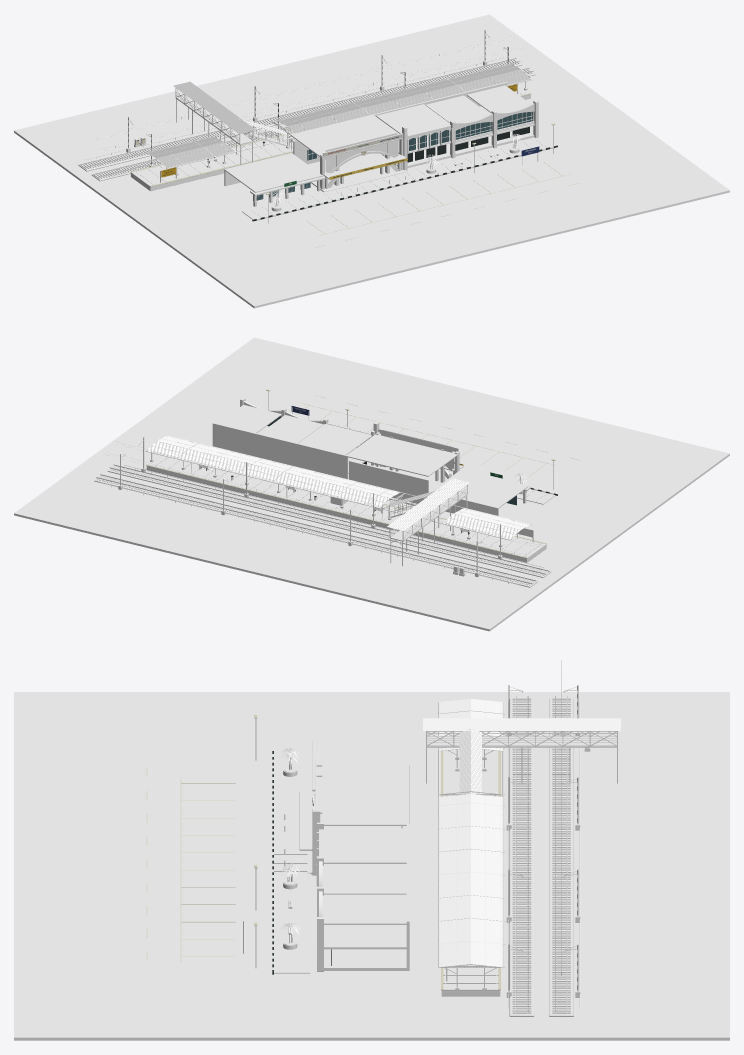
File: ERS_2017_station.glb
The picture shows the model from 3 angles, top to bottom: view 1: azimuth 30°, elevation 25°; view 2: azimuth 150°, elevation 25°; view 3: azimuth 270°, elevation 25°; orthographic projection. The views are drawn at different scales.
Parts seen in each view (by area): view 1: Presentation ground, Paved footway, Platform coping, Entry roof slab, Platform corrugated roof -1.001, Left wing roof, Platform corrugated roof 1.001, Ballast bed.001, Small gallery flat roof, Footbridge corrugated roof, Entry foundation, Broad wing roof slab.001 (+9 smaller); view 2: Presentation ground, Platform coping, Right wing rear wall, Platform corrugated roof 1.001, Ballast bed, Ballast bed.001, Entry roof slab, Platform corrugated roof -1.001, Left wing roof, Platform retaining wall, Entry rear wall, Small gallery flat roof (+10 smaller); view 3: Presentation ground, Paved footway, Entry roof slab, Platform corrugated roof 1.001, Platform corrugated roof -1.001, Ballast bed, Ballast bed.001, Small gallery flat roof, Platform coping, Footbridge corrugated roof, Broad wing roof slab, Broad wing roof slab.001 (+9 smaller).
Part boxes in pixels (left/top/right/bottom): Presentation ground: left=14, top=14, right=729, bottom=308; Paved footway: left=242, top=138, right=555, bottom=219; Platform coping: left=131, top=84, right=530, bottom=187; Entry roof slab: left=290, top=114, right=403, bottom=158; Platform corrugated roof -1.001: left=288, top=70, right=531, bottom=133; Left wing roof: left=224, top=153, right=322, bottom=192; Platform corrugated roof 1.001: left=277, top=64, right=520, bottom=126; Ballast bed.001: left=78, top=58, right=522, bottom=171; Small gallery flat roof: left=376, top=104, right=450, bottom=134; Footbridge corrugated roof: left=173, top=81, right=255, bottom=134; Entry foundation: left=308, top=153, right=407, bottom=191; Broad wing roof slab.001: left=467, top=85, right=530, bottom=113; Presentation ground: left=14, top=337, right=729, bottom=631; Platform coping: left=146, top=455, right=546, bottom=558; Right wing rear wall: left=212, top=423, right=348, bottom=479; Platform corrugated roof 1.001: left=146, top=441, right=389, bottom=507; Ballast bed: left=107, top=465, right=551, bottom=577; Ballast bed.001: left=94, top=474, right=538, bottom=587; Entry roof slab: left=346, top=433, right=459, bottom=476; Platform corrugated roof -1.001: left=157, top=435, right=400, bottom=497; Left wing roof: left=431, top=469, right=528, bottom=508; Platform retaining wall: left=146, top=466, right=546, bottom=562; Entry rear wall: left=349, top=460, right=428, bottom=503; Small gallery flat roof: left=298, top=423, right=371, bottom=454; Presentation ground: left=14, top=692, right=729, bottom=1040; Paved footway: left=274, top=753, right=310, bottom=973; Entry roof slab: left=316, top=764, right=409, bottom=825; Platform corrugated roof 1.001: left=470, top=794, right=502, bottom=966; Platform corrugated roof -1.001: left=438, top=794, right=470, bottom=967; Ballast bed: left=509, top=698, right=534, bottom=1016; Ballast bed.001: left=549, top=698, right=573, bottom=1016; Small gallery flat roof: left=321, top=828, right=406, bottom=863; Platform coping: left=441, top=749, right=500, bottom=990; Footbridge corrugated roof: left=423, top=718, right=620, bottom=730; Broad wing roof slab: left=321, top=865, right=406, bottom=894; Broad wing roof slab.001: left=321, top=895, right=406, bottom=924.
Bounding box in the file's own units: 120 × 10.97 × 105.
Materials: 31 (13 with a texture image).
